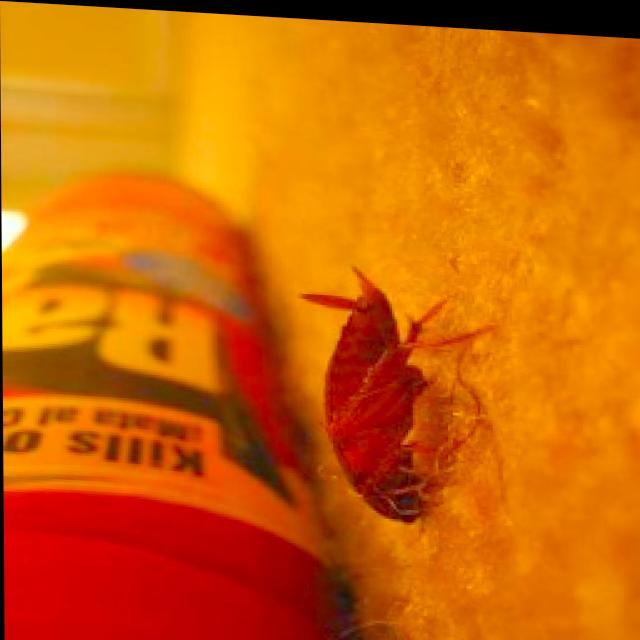cockroach: (296, 261, 503, 528)
